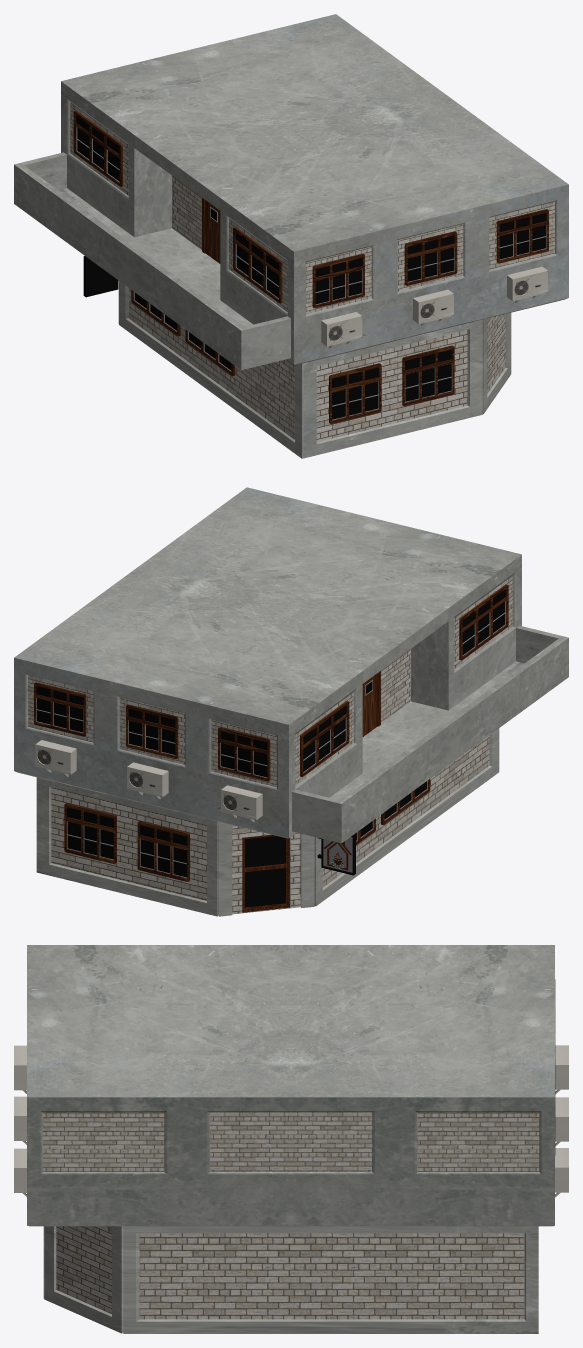
Rendered from building 3.fbx.
3 views of the same model, one above another, from view 1: azimuth 30°, elevation 25°; view 2: azimuth 150°, elevation 25°; view 3: azimuth 270°, elevation 25° (orthographic). The views are drawn at different scales.
Visible parts, largest first — view 1: Cube.002, Cube.001, Cube.011, Cube.010, Cube.015, Cube.016, Cube.017, Cube.007, Cube.006, Aircon1.003, Aircon1.005, Aircon1.004 (+3 smaller); view 2: Cube.002, Cube.001, Cube.008, Cube.009, Cube.013, Cube.014, Cube.012, Cube.007, Cube.006, Aircon1, Aircon1.002, Aircon1.001 (+2 smaller); view 3: Cube.002, Cube.001, Aircon1, Aircon1.001, Aircon1.002, Aircon1.003, Aircon1.004, Aircon1.005.
Boxes of the visible parts, box(x1,y1,x2,y2) form: Cube.002: box(14, 14, 568, 370); Cube.001: box(118, 281, 511, 458); Cube.011: box(329, 363, 381, 424); Cube.010: box(402, 345, 454, 406); Cube.015: box(404, 231, 457, 285); Cube.016: box(496, 209, 548, 263); Cube.017: box(312, 254, 364, 308); Cube.007: box(233, 227, 282, 303); Cube.006: box(73, 110, 122, 186); Aircon1.003: box(321, 312, 362, 348); Aircon1.005: box(507, 266, 547, 302); Aircon1.004: box(413, 289, 453, 325); Cube.002: box(14, 487, 568, 843); Cube.001: box(36, 728, 499, 916); Cube.008: box(64, 803, 116, 863); Cube.009: box(137, 821, 189, 881); Cube.013: box(34, 682, 86, 736); Cube.014: box(218, 727, 270, 781); Cube.012: box(126, 704, 178, 758); Cube.007: box(459, 584, 508, 660); Cube.006: box(300, 701, 349, 776); Aircon1: box(35, 740, 76, 776); Aircon1.002: box(221, 785, 262, 822); Aircon1.001: box(127, 762, 168, 799); Cube.002: box(27, 945, 554, 1226); Cube.001: box(43, 1226, 538, 1333); Aircon1: box(555, 1148, 568, 1197); Aircon1.001: box(555, 1097, 568, 1146); Aircon1.002: box(555, 1045, 568, 1094); Aircon1.003: box(14, 1045, 26, 1093); Aircon1.004: box(14, 1096, 26, 1144); Aircon1.005: box(14, 1148, 26, 1196).
Bounding box in the file's own units: 1713 × 1090 × 2236.
Materials: 12 (6 with a texture image).
